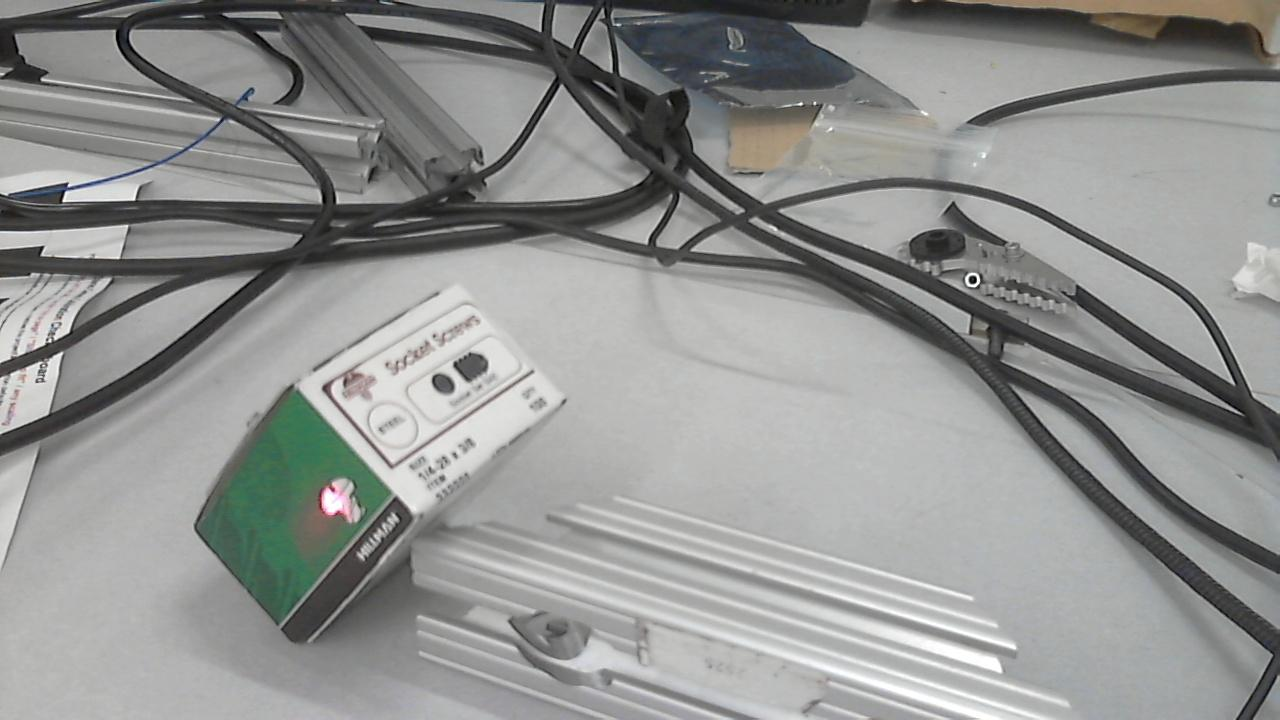Object toy football - Material foam - Color blue - Pdfname VT1ffZoLOnKv: (267, 464, 383, 563)
